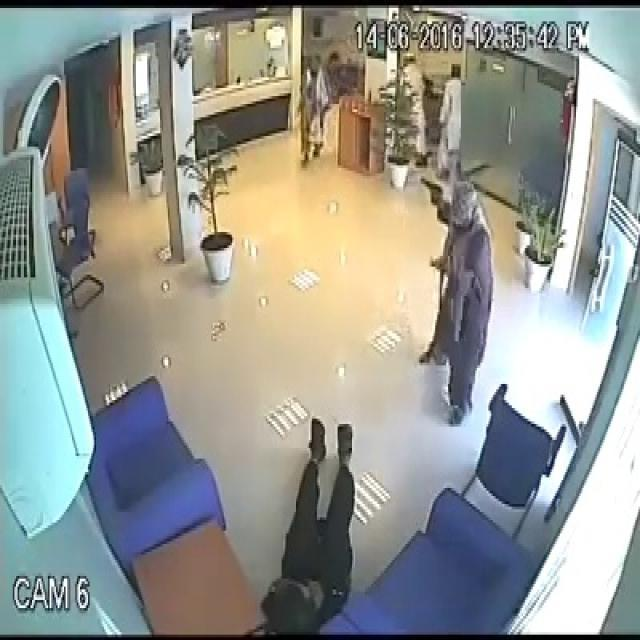weapon: (416, 170, 443, 206)
